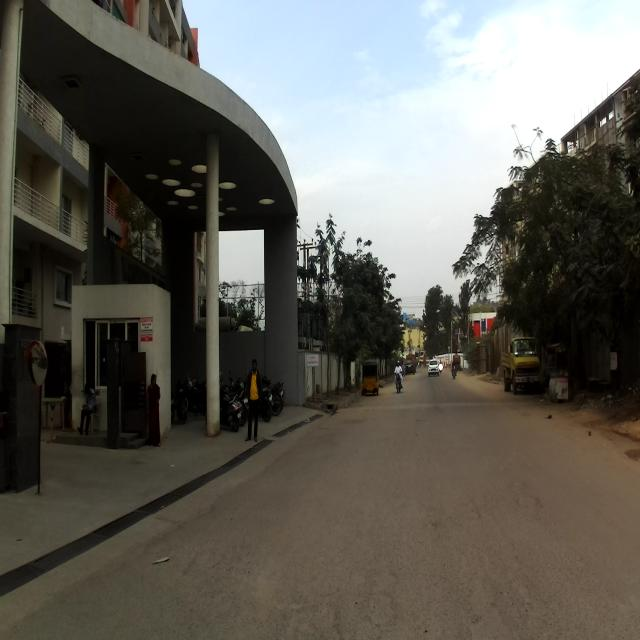person ahead at: (244, 358, 262, 440), (145, 368, 162, 441)
pillar ahead at: (200, 135, 228, 436)
